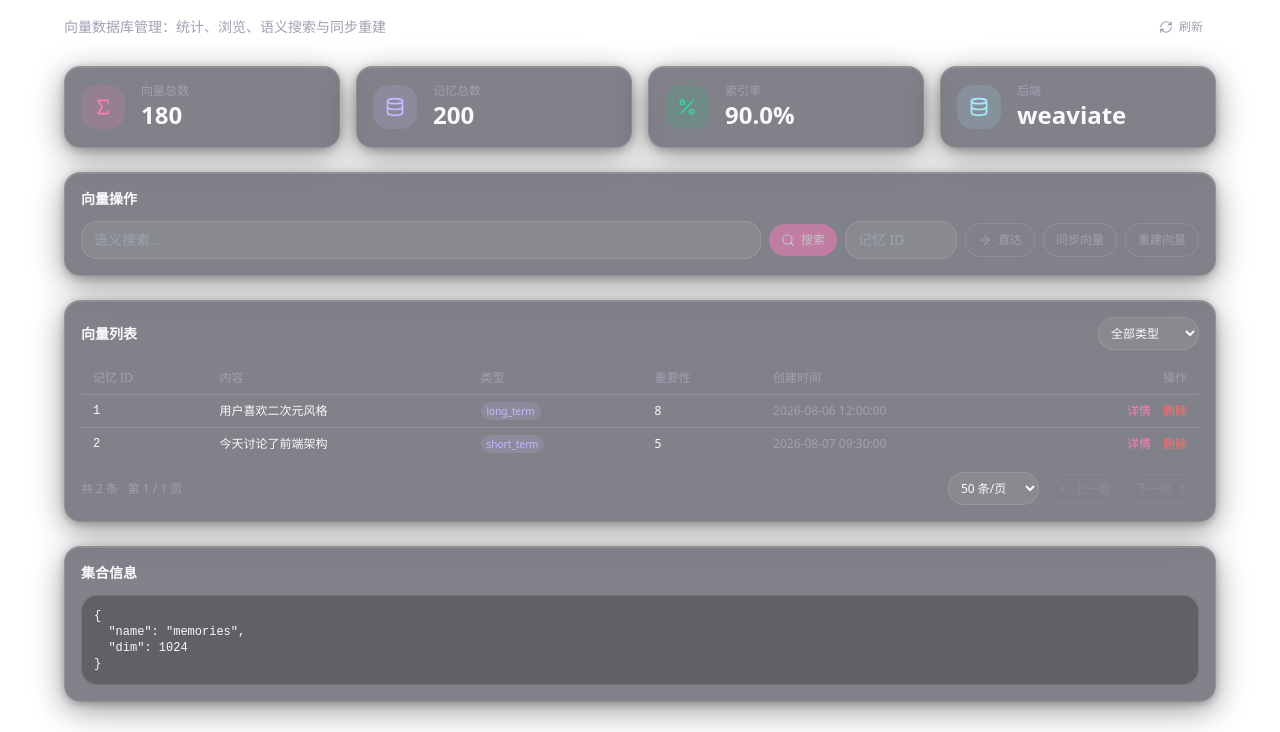
VectorDataPage 向量数据页 › 同步向量成功后显示完成提示
The width and height of the screenshot is (1280, 732).
Expected: the text "用户喜欢二次元风格" is shown, [208,394,469,428]
Click the button "同步向量".
click(1080, 240)  # box [1043,223,1117,257]
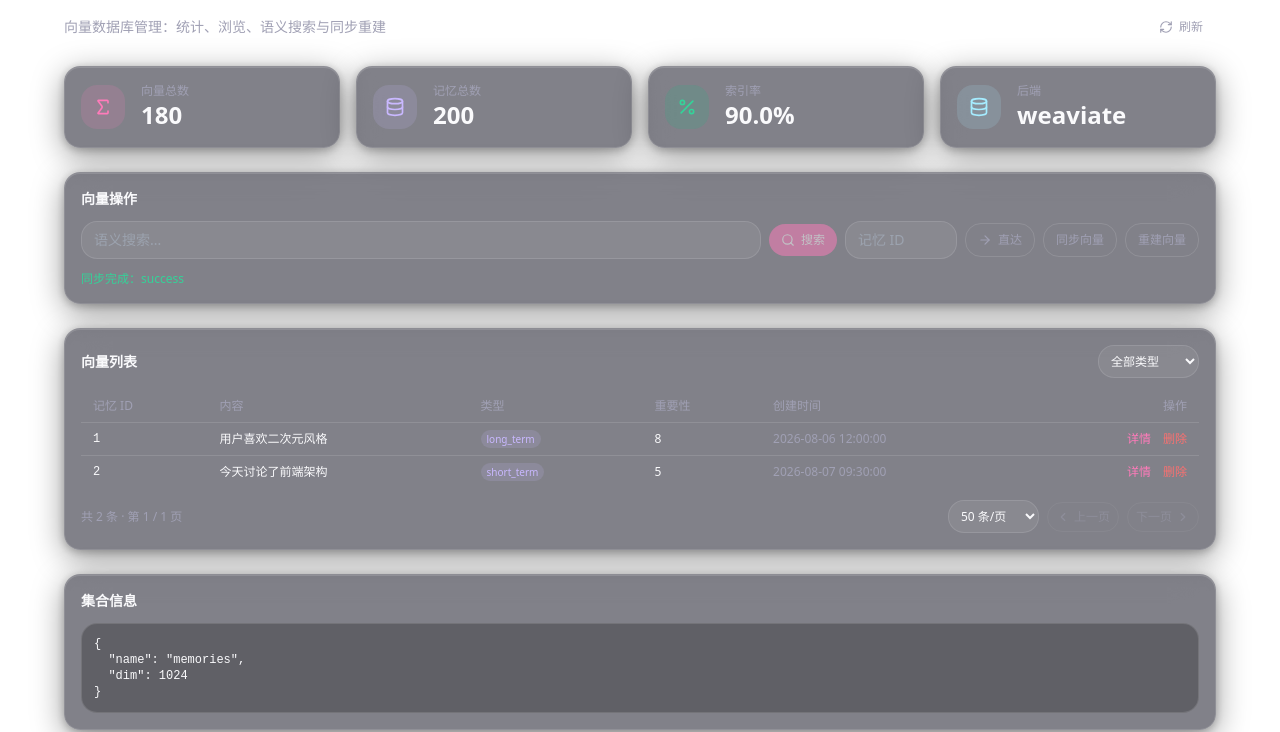
Now the text "同步完成：success" is shown, box [81,270,184,287]
